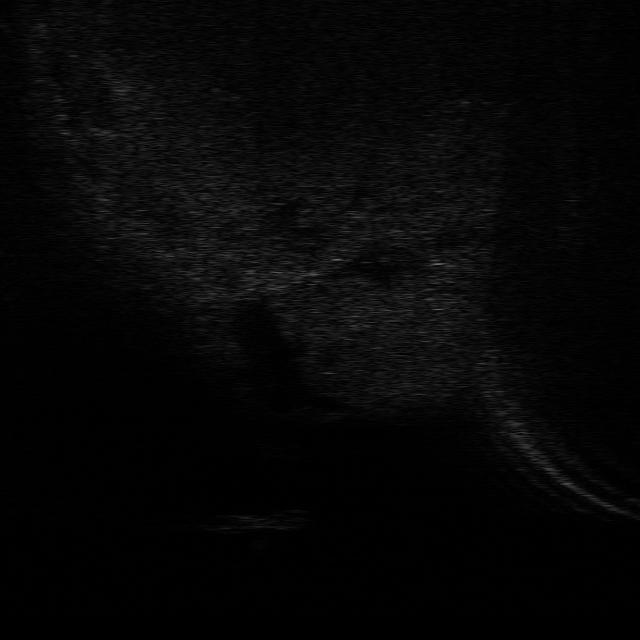cube: (212, 504, 308, 531)
